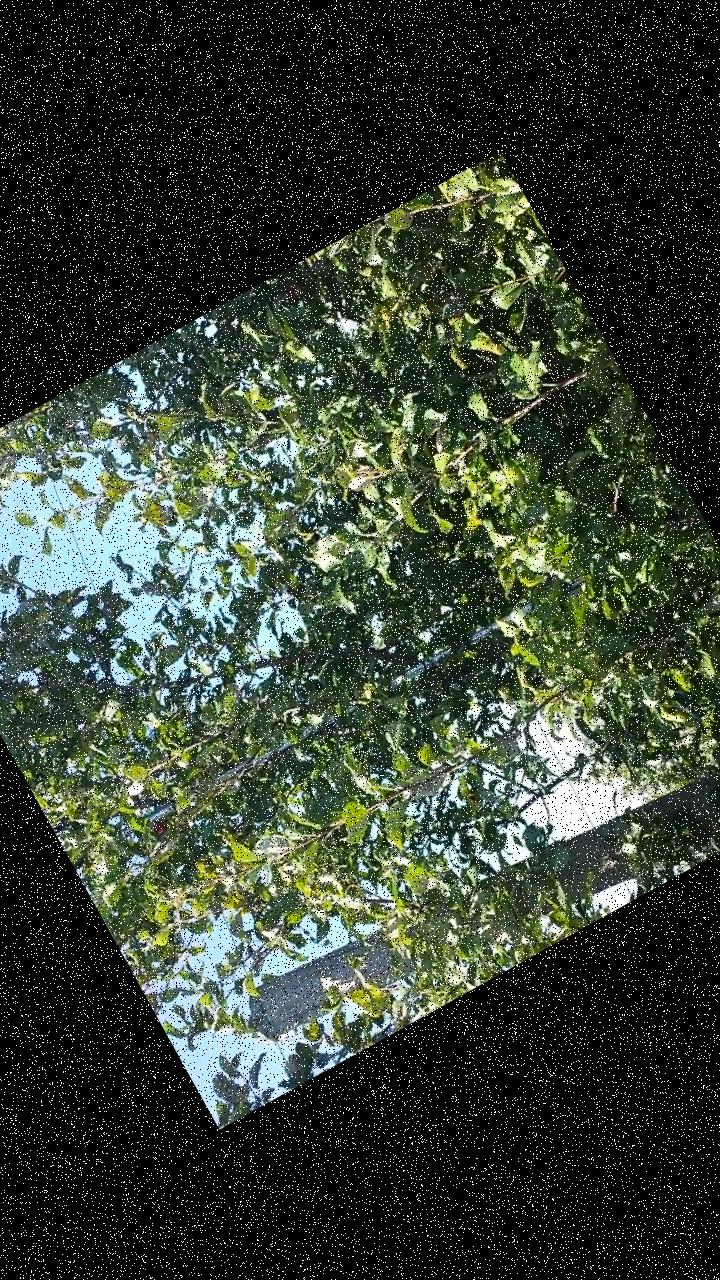Apple: (146, 814, 168, 838)
